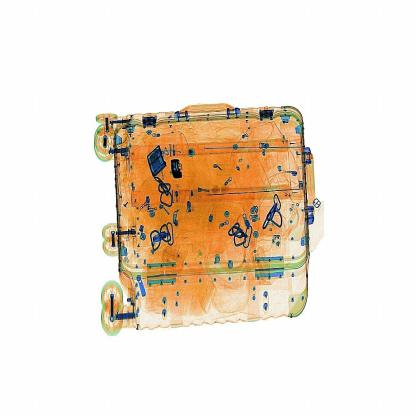pliers: (170, 157, 187, 197)
